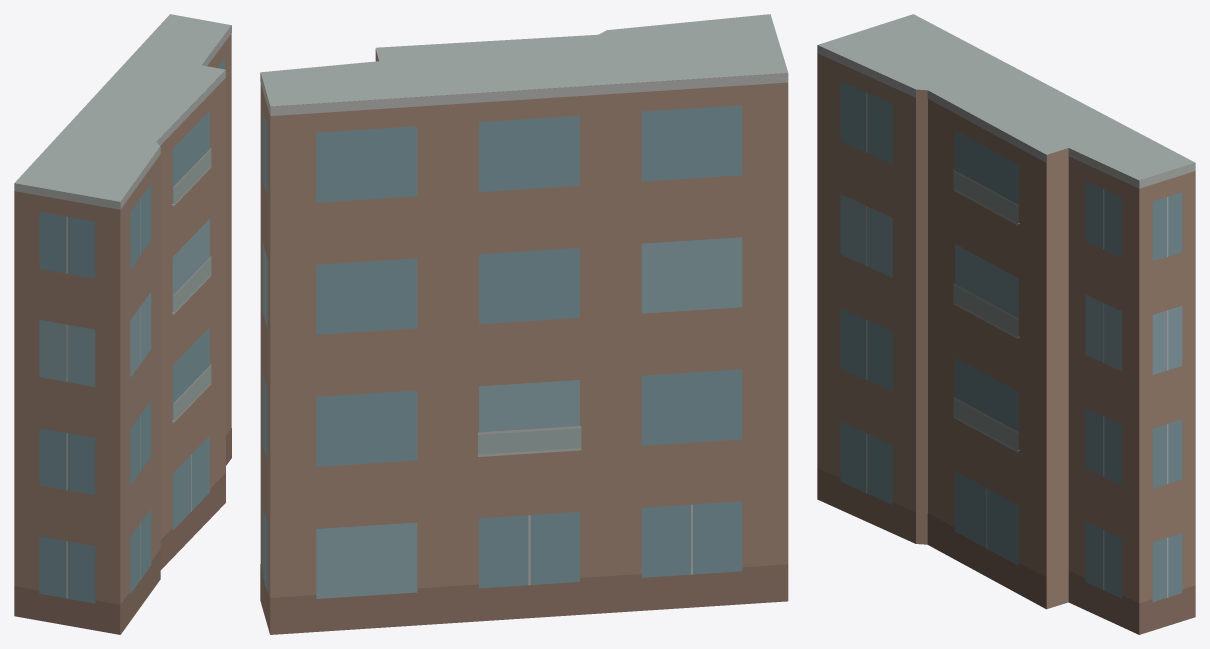
The model's file is survey-upis-32747072.glb.
3 renders of one model, left to right at view 1: azimuth 30°, elevation 25°; view 2: azimuth 150°, elevation 25°; view 3: azimuth 270°, elevation 25°, orthographic. The views are drawn at different scales.
Parts seen in each view (by area): view 1: survey-upis-32747072.tmp; view 2: survey-upis-32747072.tmp; view 3: survey-upis-32747072.tmp.
Part boxes in pixels (left/top/right/bottom): survey-upis-32747072.tmp: left=14, top=14, right=231, bottom=634; survey-upis-32747072.tmp: left=260, top=14, right=788, bottom=634; survey-upis-32747072.tmp: left=817, top=14, right=1195, bottom=634.
Bounding box in the file's own units: 10.53 × 13.4 × 10.11.
